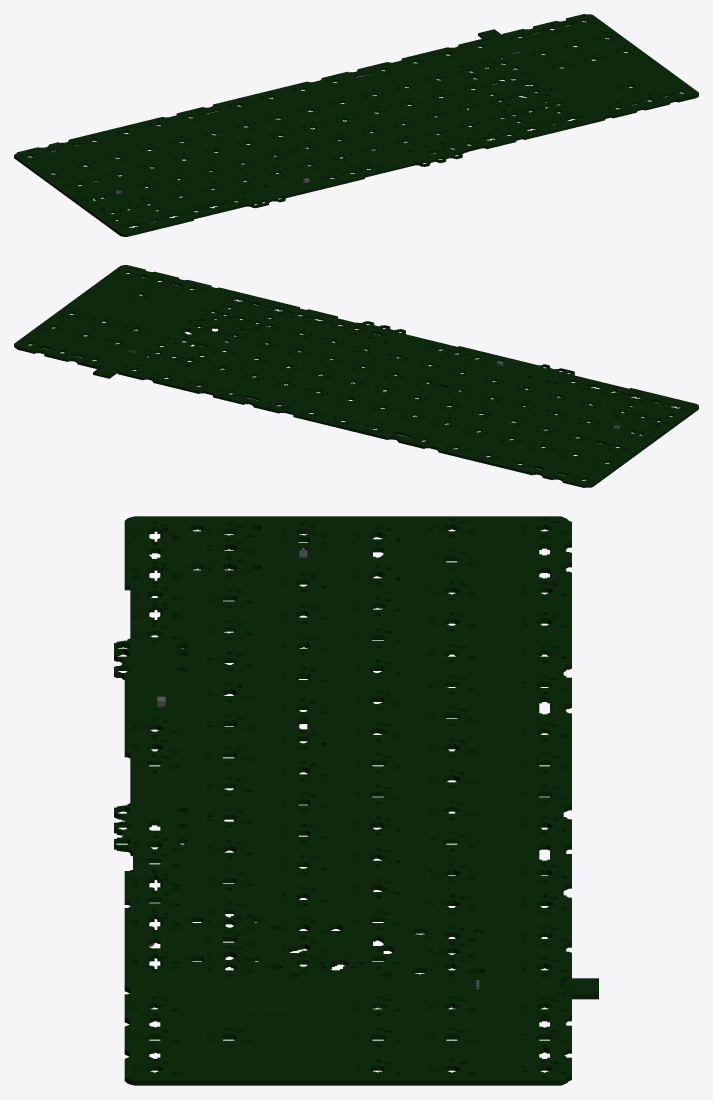
The model's file is infinity87.glb.
3 renders of one model, top to bottom at view 1: azimuth 30°, elevation 25°; view 2: azimuth 150°, elevation 25°; view 3: azimuth 270°, elevation 25°, orthographic. The views are drawn at different scales.
Visible parts, largest first — view 1: infinity87; view 2: infinity87; view 3: infinity87.
Part boxes in pixels (x1,y1,x2,y2): infinity87: (14,14,698,236); infinity87: (14,265,698,487); infinity87: (114,516,598,1085).
Bounding box in the file's own units: 343 × 7 × 125.
